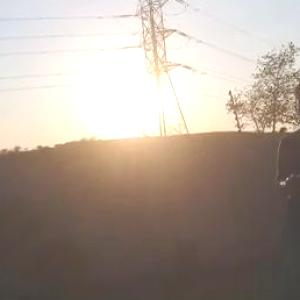follow: (268, 77, 299, 299)
